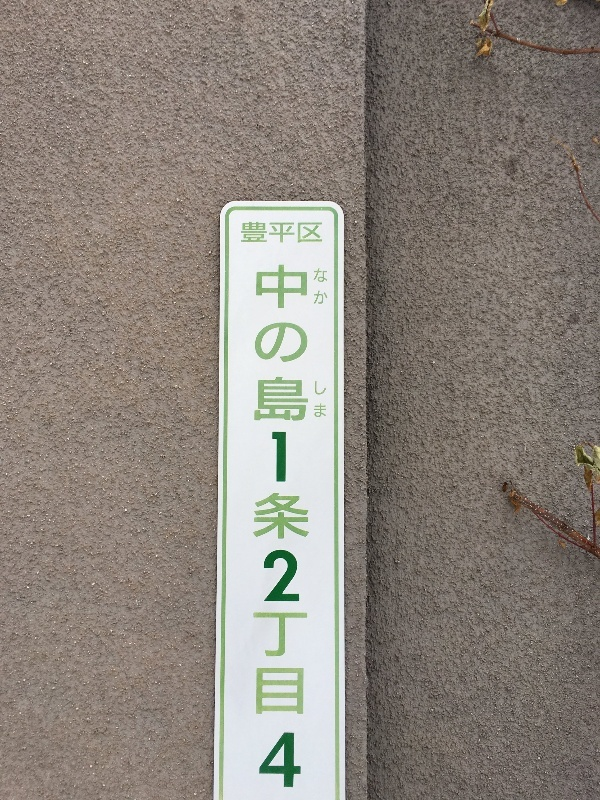text: (257, 263, 272, 794), (273, 263, 288, 794), (289, 263, 304, 794), (305, 263, 310, 794), (257, 220, 272, 248), (273, 220, 288, 248), (289, 220, 304, 248), (305, 220, 320, 248), (242, 220, 256, 248), (321, 267, 329, 309), (321, 380, 328, 422), (314, 380, 320, 422), (315, 267, 320, 309), (321, 220, 324, 248)
